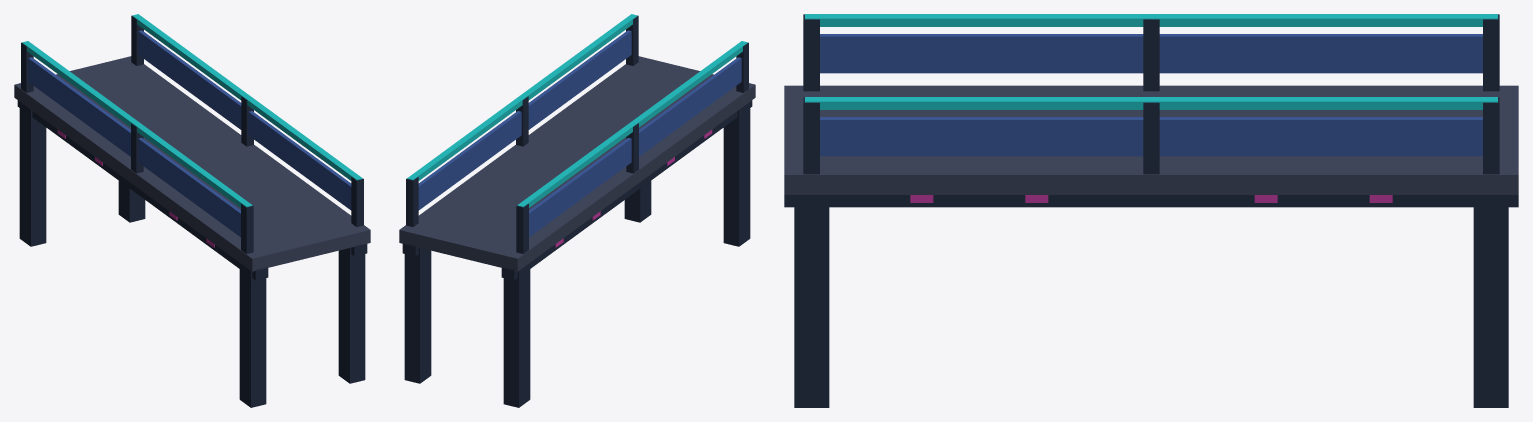
The model's file is Neon_Skybridge_Showcase.glb.
3 views of the same model, side by side, from view 1: azimuth 30°, elevation 25°; view 2: azimuth 150°, elevation 25°; view 3: azimuth 270°, elevation 25° (orthographic). The views are drawn at different scales.
Parts seen in each view (by area): view 1: Neon_Skybridge_Showcase; view 2: Neon_Skybridge_Showcase; view 3: Neon_Skybridge_Showcase.
Part boxes in pixels (left/top/right/bottom): Neon_Skybridge_Showcase: left=14, top=14, right=370, bottom=407; Neon_Skybridge_Showcase: left=399, top=14, right=755, bottom=407; Neon_Skybridge_Showcase: left=784, top=14, right=1518, bottom=407.
Size of the model in its own units: 2.3 by 3.69 by 8.
